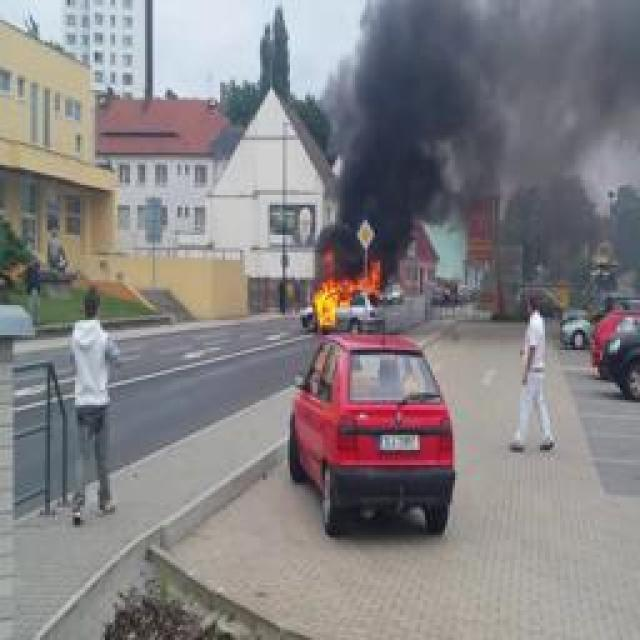Fire: (330, 253, 395, 300), (313, 283, 338, 329)
Smoke: (321, 0, 639, 190)
